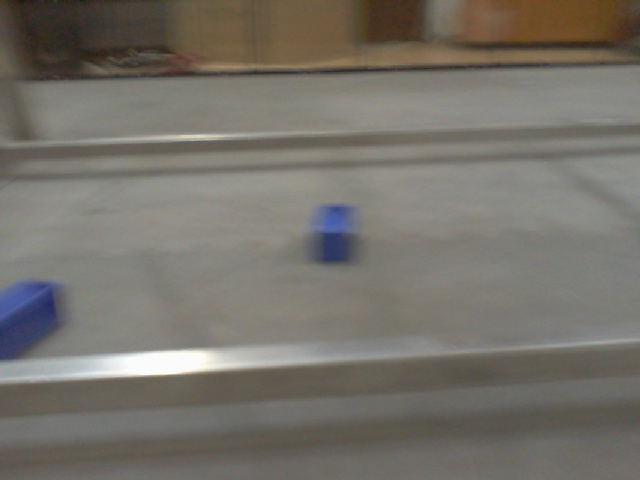BlueSample: (1, 280, 60, 359), (314, 198, 359, 265)
